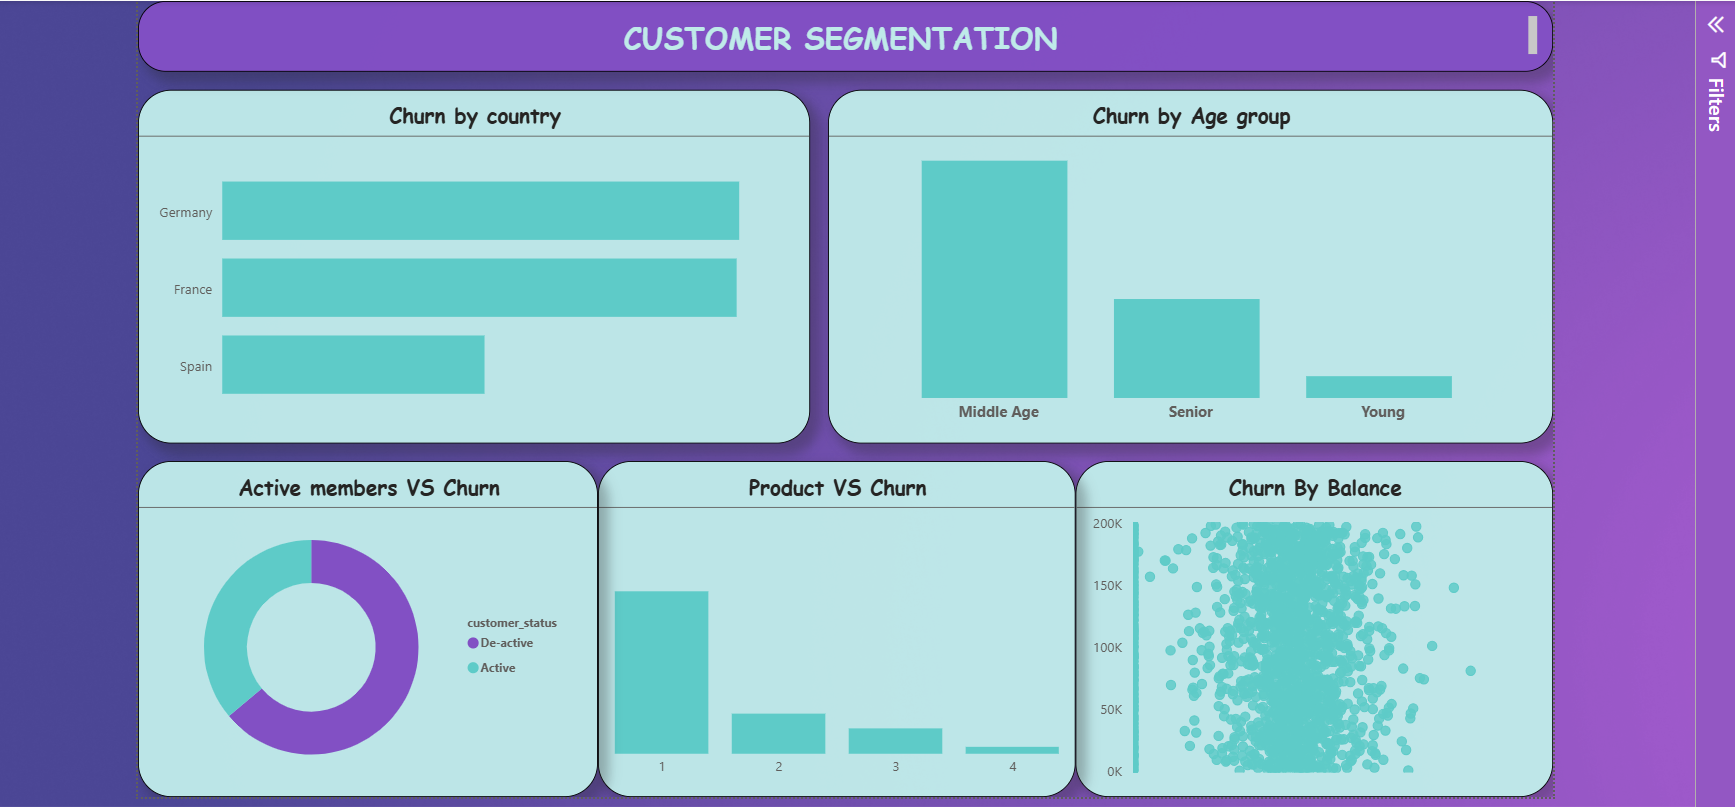

What the dashboard file says about the page in this screenshot:
{"tool":"powerbi","page":{"name":"Customer Segmentation","canvas":[1280,720],"ordinal":1},"visuals":[{"type":"barChart","title":"Churn by country","fields":{"Category":["Churn_Modelling (2).Geography"],"Y":["CountNonNull(final_churn_dataset.customer_id)"],"Series":["final_churn_dataset.churn"]},"box":[0,80,608,320],"z":0},{"type":"columnChart","title":"Churn by Age group","fields":{"Category":["final_churn_dataset.Age Group"],"Y":["CountNonNull(final_churn_dataset.customer_id)"],"Series":["final_churn_dataset.churn"]},"box":[624,80,656,320],"z":1000},{"type":"scatterChart","title":"Churn By Balance","fields":{"X":["Sum(final_churn_dataset.balance)"],"Y":["Sum(final_churn_dataset.estimated_salary)"],"Category":["final_churn_dataset.customer_id"],"Series":["final_churn_dataset.churn"]},"box":[848,416,432,304],"z":2000},{"type":"clusteredColumnChart","title":"Product VS Churn","fields":{"Category":["final_churn_dataset.products_number"],"Y":["CountNonNull(final_churn_dataset.customer_id)"],"Series":["final_churn_dataset.churn"]},"box":[416,416,432,304],"z":3000},{"type":"donutChart","title":"Active members VS Churn","fields":{"Y":["Count(final_churn_dataset.customer_id)"],"Category":["final_churn_dataset.active_customer"]},"box":[0,416,416,304],"z":4000},{"type":"textbox","box":[0,0,1280,64],"z":5000}]}

Visuals, with their boxes in screenshot pixels (x1, y1, x2, y2):
"Churn by country" barChart: (131,84,805,439)
"Churn by Age group" columnChart: (822,84,1549,439)
"Churn By Balance" scatterChart: (1070,456,1549,793)
"Product VS Churn" clusteredColumnChart: (592,456,1070,793)
"Active members VS Churn" donutChart: (131,456,592,793)
textbox: (131,0,1549,66)
